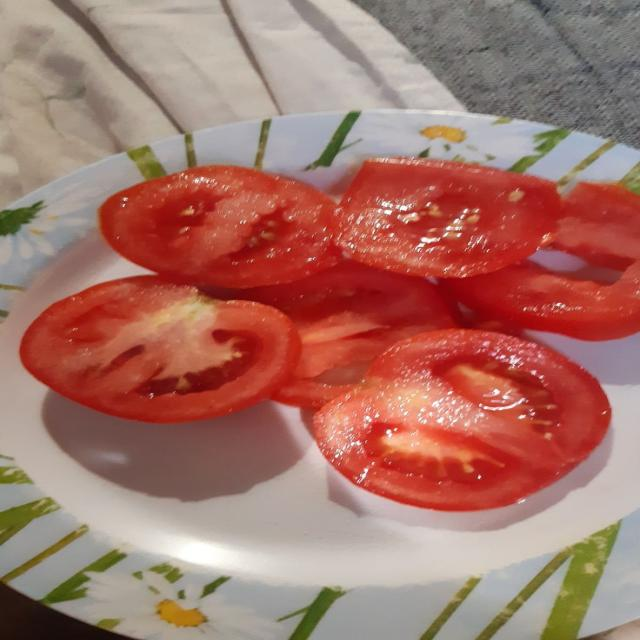sliced_tomato: (314, 330, 610, 510), (20, 276, 299, 423), (247, 262, 456, 408), (100, 166, 336, 287), (335, 159, 560, 277), (441, 261, 639, 340), (554, 183, 639, 270)
